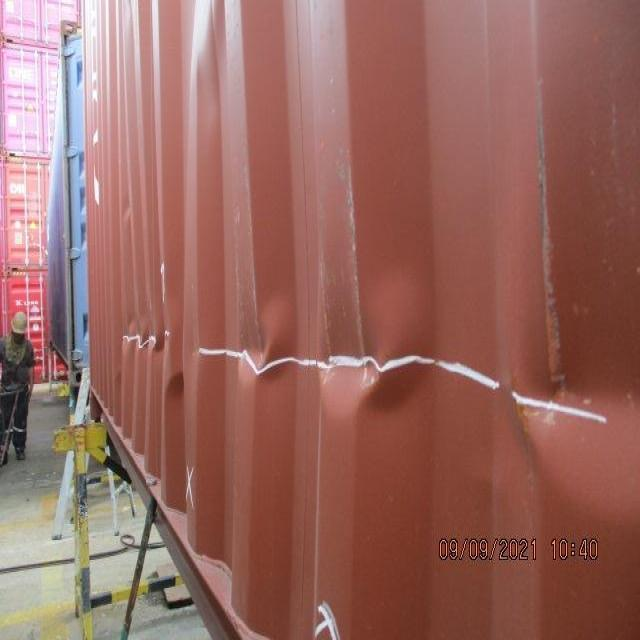Dent: (113, 271, 637, 537)
Minor-Dent: (155, 3, 249, 104)
